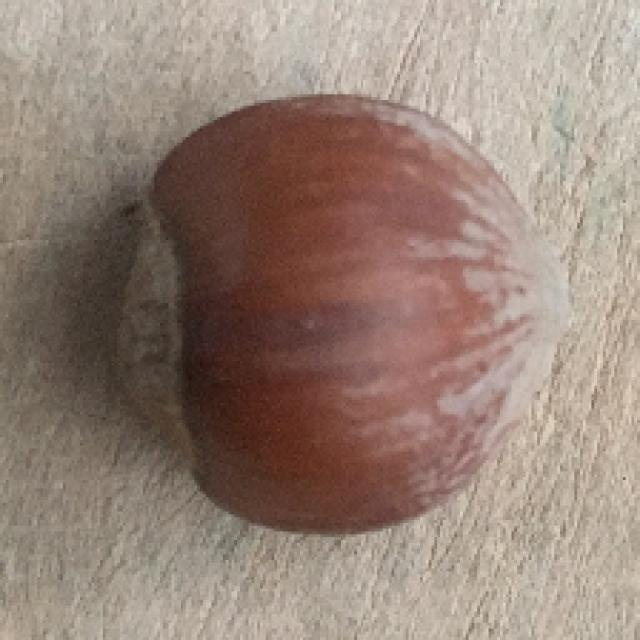qualityHazelnut: (121, 95, 574, 537)
